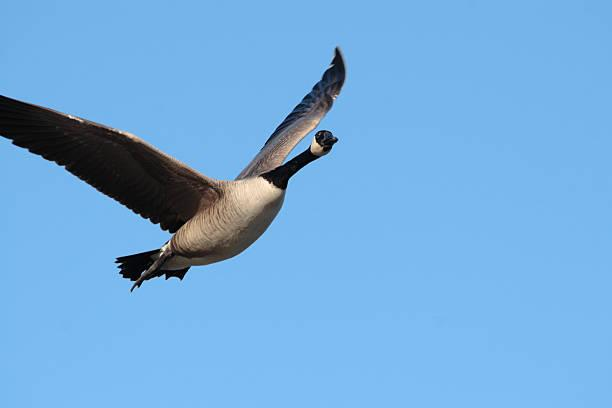Canadian-Goose: (1, 45, 348, 291)
